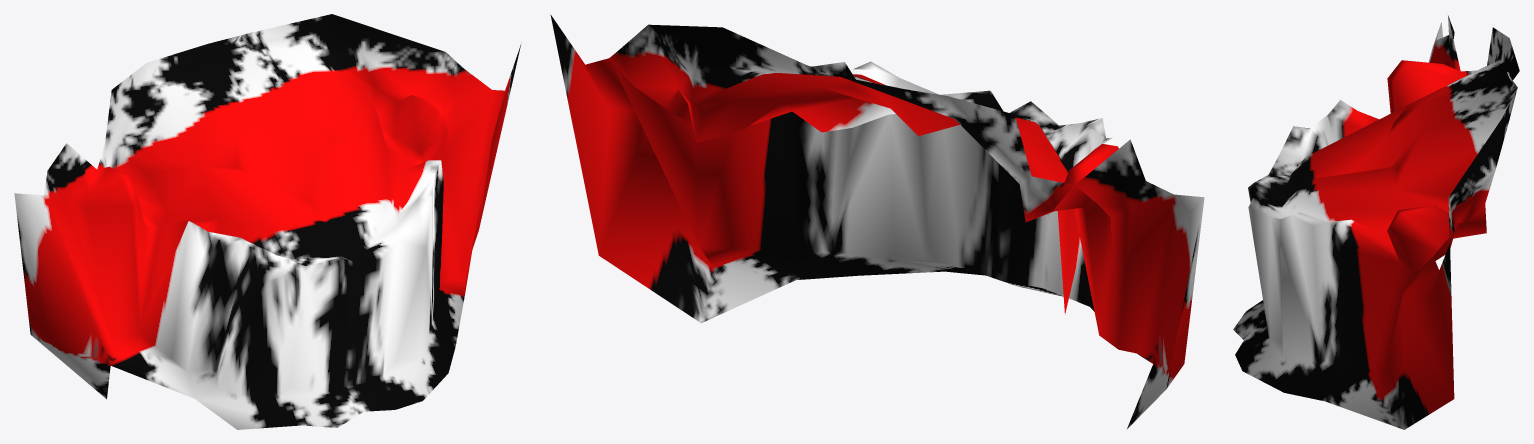
Rendered from radfacebot.glb.
3 views of the same model, side by side, from view 1: azimuth 30°, elevation 25°; view 2: azimuth 150°, elevation 25°; view 3: azimuth 270°, elevation 25° (orthographic). The views are drawn at different scales.
Visible parts, largest first — view 1: Mesh1.002; view 2: Mesh1.002; view 3: Mesh1.002.
Boxes of the visible parts, box(x1,y1,x2,y2) form: Mesh1.002: box(14, 14, 520, 429); Mesh1.002: box(550, 14, 1204, 428); Mesh1.002: box(1233, 14, 1519, 429).
Bounding box in the file's own units: 3.32 × 1.78 × 1.65.
1 material, 1 textured.
